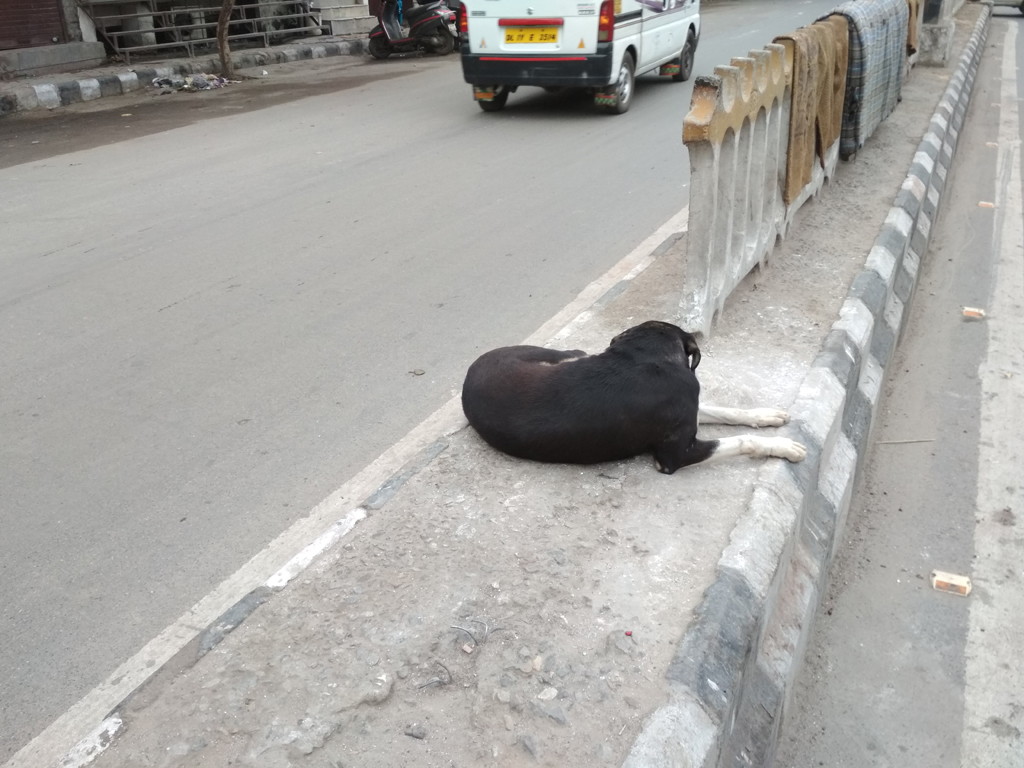dog: (463, 322, 809, 475)
